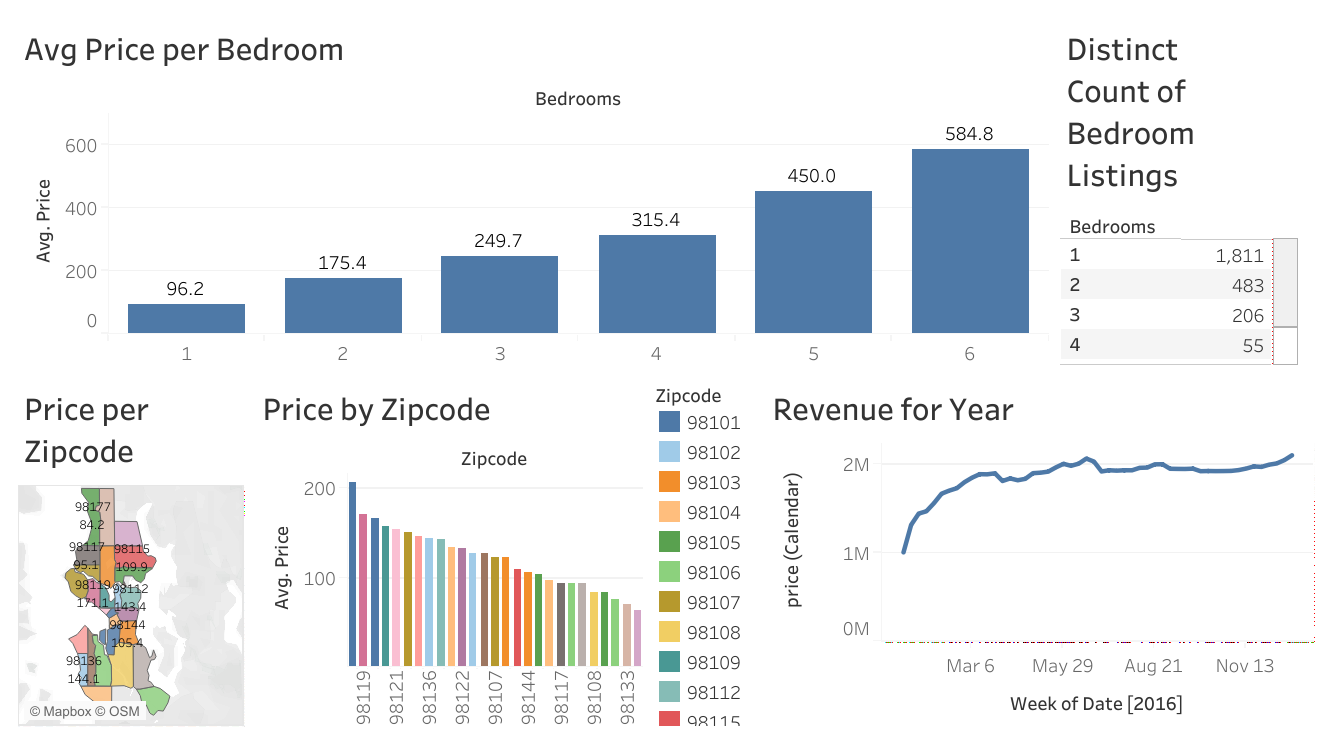

The page's visual inventory and layout, read from the dashboard file:
{"tool":"tableau","page":{"name":"Dashboard 1","canvas":[1000,1000],"units":"permille","ordinal":0},"visuals":[{"type":"worksheet","title":"Sheet 4","mark":"Automatic","rows":["price"],"cols":["bedrooms"],"box":[5,10.7,789.6,489.3]},{"type":"worksheet","title":"Sheet 5","mark":"Automatic","rows":["bedrooms"],"box":[794.5,10.7,200.5,489.3]},{"type":"worksheet","title":"Sheet 2","mark":"Multipolygon","box":[5,500,181.2,489.3]},{"type":"worksheet","title":"Sheet 1","mark":"Automatic","rows":["price"],"cols":["zipcode"],"box":[186.2,500,300.4,489.3]},{"type":"legend","title":"Sheet 1","param":"[federated.0v72bv80fi7hcv19mj3h10d3kupd].[none:zipcode:ok]","box":[486.7,500,85.7,489.3]},{"type":"worksheet","title":"Sheet 3","mark":"Automatic","rows":["price (Calendar)"],"cols":["date"],"box":[572.3,500,422.7,489.3]}]}

Visuals, with their boxes on the dashboard's canvas, which has no fixed pixel size, in thousandths of its width and height (x1, y1, x2, y2). These are canvas units, not pixel positions in the 1329x743 screenshot, which may show the page scaled, cropped or inside an application window:
"Sheet 4" worksheet: (x1=5, y1=11, x2=795, y2=500)
"Sheet 5" worksheet: (x1=794, y1=11, x2=995, y2=500)
"Sheet 2" worksheet (Multipolygon marks): (x1=5, y1=500, x2=186, y2=989)
"Sheet 1" worksheet: (x1=186, y1=500, x2=487, y2=989)
"Sheet 1" legend: (x1=487, y1=500, x2=572, y2=989)
"Sheet 3" worksheet: (x1=572, y1=500, x2=995, y2=989)
